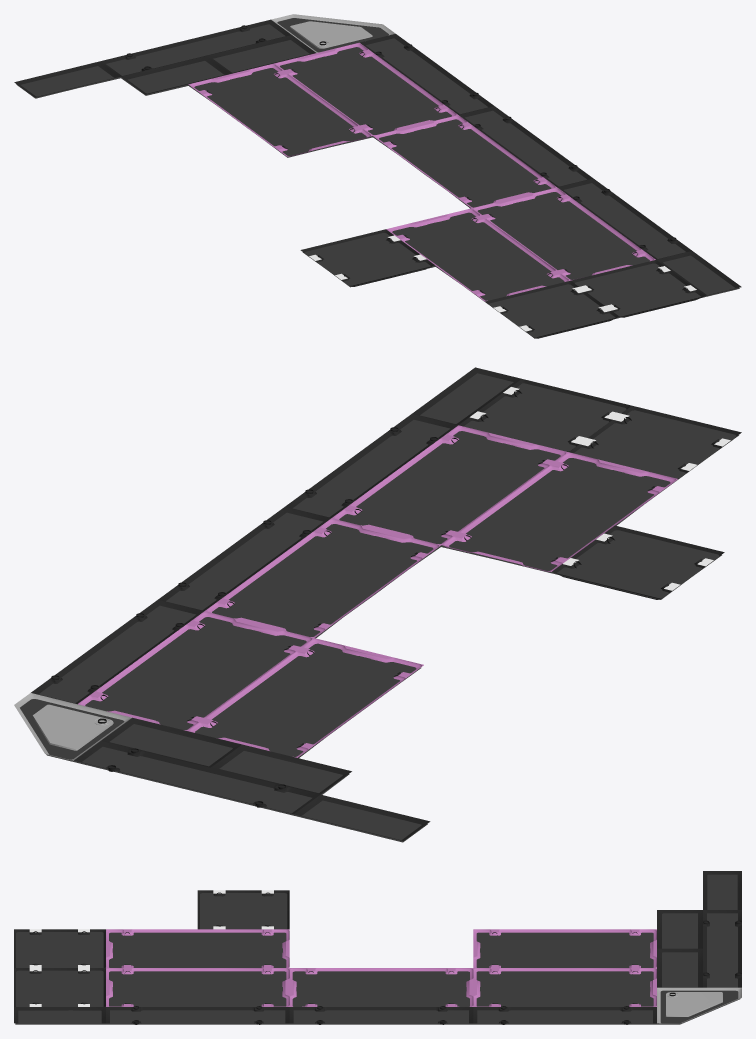
Rendered from Building_A_Room_A_Ceiling_B.fbx.
3 views of the same model, one above another, from view 1: azimuth 30°, elevation 25°; view 2: azimuth 150°, elevation 25°; view 3: azimuth 270°, elevation 25° (orthographic). The views are drawn at different scales.
Parts seen in each view (by area): view 1: LPG_Building_A_Room_A_Ceiling_B, Geom_Building_A_Room_A_Ceiling_B_LOD00; view 2: LPG_Building_A_Room_A_Ceiling_B, Geom_Building_A_Room_A_Ceiling_B_LOD00; view 3: LPG_Building_A_Room_A_Ceiling_B, Geom_Building_A_Room_A_Ceiling_B_LOD00.
Boxes of the visible parts, bbox=[...] form: LPG_Building_A_Room_A_Ceiling_B: bbox=[16, 18, 739, 338]; Geom_Building_A_Room_A_Ceiling_B_LOD00: bbox=[14, 14, 741, 338]; LPG_Building_A_Room_A_Ceiling_B: bbox=[20, 373, 738, 842]; Geom_Building_A_Room_A_Ceiling_B_LOD00: bbox=[14, 367, 741, 840]; LPG_Building_A_Room_A_Ceiling_B: bbox=[15, 874, 739, 1024]; Geom_Building_A_Room_A_Ceiling_B_LOD00: bbox=[14, 871, 741, 1024].
Size of what is drawn, in the model's own units: 1570 by 31.55 by 3170.
